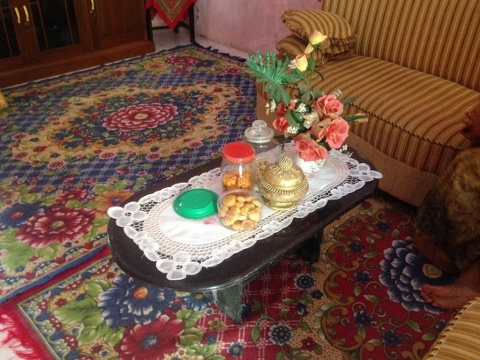meja: (108, 132, 379, 323)
